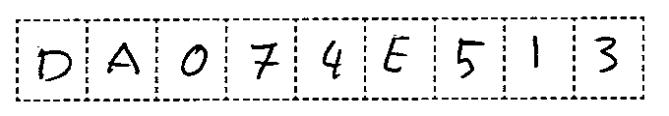0: (176, 42, 211, 83)
1: (518, 31, 554, 74)
3: (588, 32, 624, 80)
4: (315, 35, 350, 82)
5: (450, 32, 490, 84)
7: (242, 34, 284, 84)
A: (102, 38, 143, 79)
D: (33, 43, 74, 86)
E: (379, 28, 414, 77)
